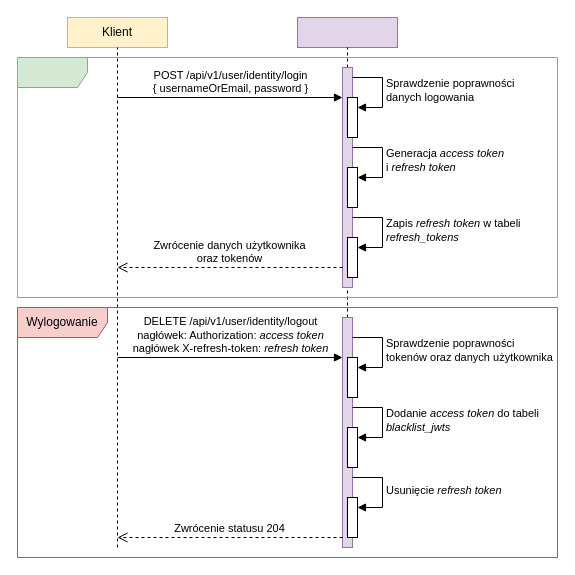
Image size: 575x575. Some labels were removed from this diagram. Here are the shapes that lost their labels. From the top down, the box of each, then its label:
(296, 16, 398, 48): Serwer
(16, 56, 558, 298): Logowanie
